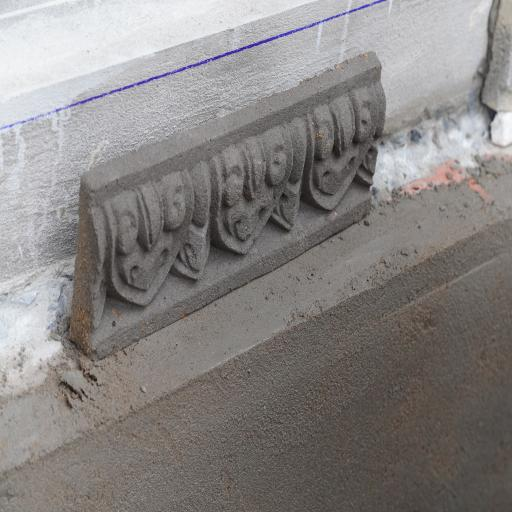la: (90, 158, 204, 322), (208, 118, 309, 270), (303, 82, 394, 231)
